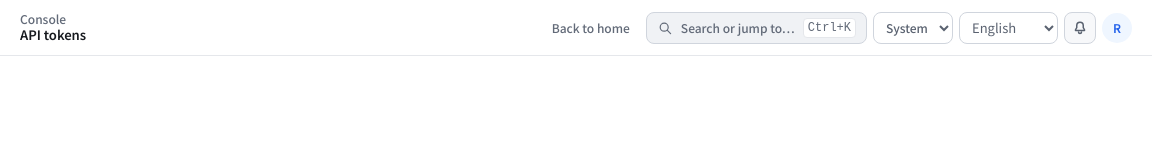
Test: AppTopbar › reports a failed sign-out and stays on the page
Click the button named "Account menu" at (1117, 28), box [1102, 12, 1132, 42]
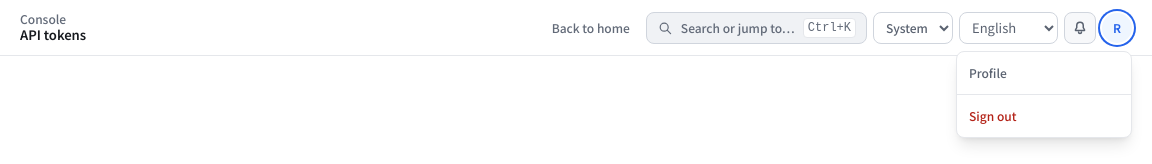
Click the menu item "Sign out" at (1044, 116), box [957, 98, 1131, 132]
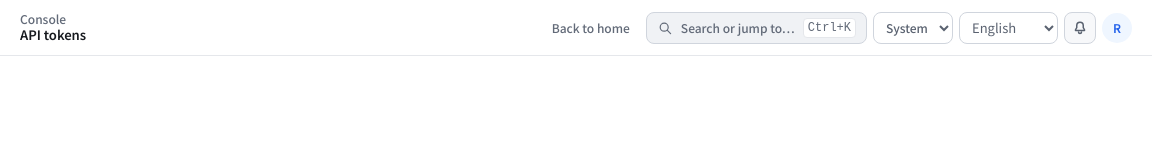
Result: the menu is gone
